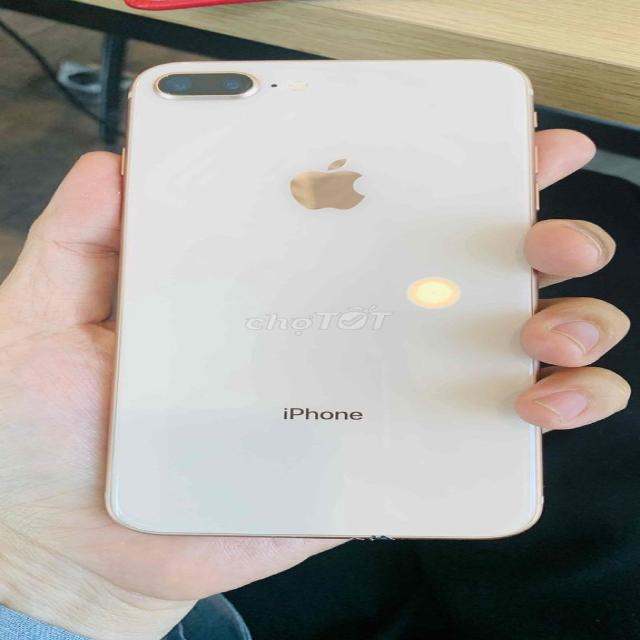scratch: (143, 68, 260, 100)
screen_defect: (402, 274, 468, 311)
